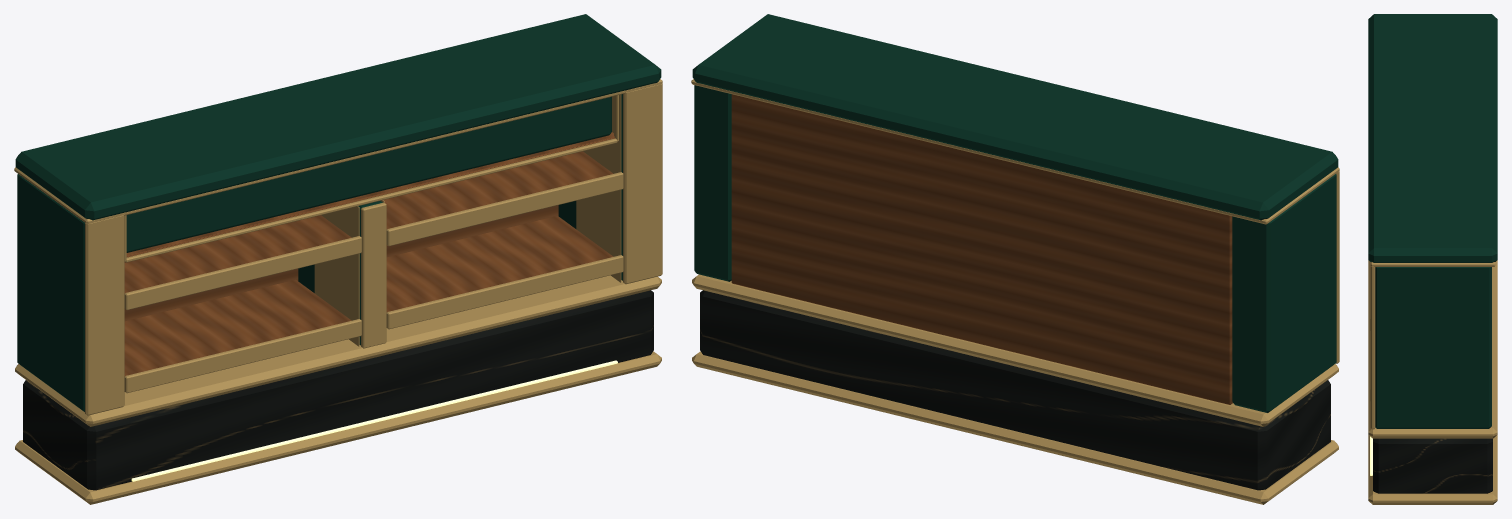
The picture shows the model from 3 angles, left to right: view 1: azimuth 30°, elevation 25°; view 2: azimuth 150°, elevation 25°; view 3: azimuth 270°, elevation 25°; orthographic projection. The views are drawn at different scales.
Visible parts, largest first — view 1: cabinet_crown, cabinet_stone_base, brand_header_panel, trim_base_top, cabinet_left_pillar, shelf_1_left, shelf_1_right, trim_base_plinth, trim_left_front, trim_right_front, shelf_2_right, shelf_2_left (+12 smaller); view 2: cabinet_back, cabinet_crown, cabinet_stone_base, cabinet_left_pillar, trim_base_top, trim_base_plinth, cabinet_right_pillar, trim_crown_lip, trim_left_front; view 3: cabinet_crown, cabinet_right_pillar, cabinet_stone_base, trim_base_top, trim_base_plinth, trim_right_front, trim_crown_lip.
Boxes of the visible parts, x1,y1,x2,y2 form: cabinet_crown: (15, 14, 661, 220); cabinet_stone_base: (23, 290, 653, 490); brand_header_panel: (126, 96, 611, 252); trim_base_top: (15, 275, 661, 426); cabinet_left_pillar: (17, 174, 84, 411); shelf_1_left: (124, 279, 351, 376); shelf_1_right: (386, 216, 613, 312); trim_base_plinth: (15, 351, 661, 504); trim_left_front: (85, 215, 124, 415); trim_right_front: (623, 83, 662, 284); shelf_2_right: (383, 151, 613, 229); shelf_2_left: (124, 215, 351, 293); cabinet_back: (731, 94, 1232, 404); cabinet_crown: (692, 14, 1338, 220); cabinet_stone_base: (700, 290, 1330, 490); cabinet_left_pillar: (1232, 174, 1336, 412); trim_base_top: (692, 274, 1338, 426); trim_base_plinth: (692, 351, 1338, 504); cabinet_right_pillar: (694, 85, 731, 281); trim_crown_lip: (691, 79, 1339, 224); trim_left_front: (1336, 171, 1339, 363); cabinet_crown: (1368, 14, 1497, 262); cabinet_right_pillar: (1375, 267, 1491, 428); cabinet_stone_base: (1373, 438, 1492, 493); trim_base_top: (1368, 260, 1497, 438); trim_base_plinth: (1368, 435, 1497, 504); trim_right_front: (1370, 266, 1375, 429); trim_crown_lip: (1370, 262, 1495, 266).
Bounding box in the file's own units: 2.4 × 1.2 × 0.55.
Materials: 5 (2 with a texture image).
